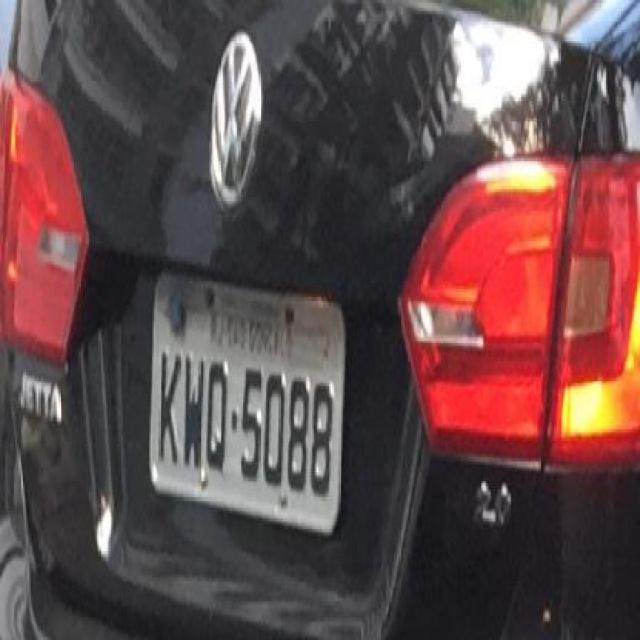old_plate: (142, 262, 355, 546)
